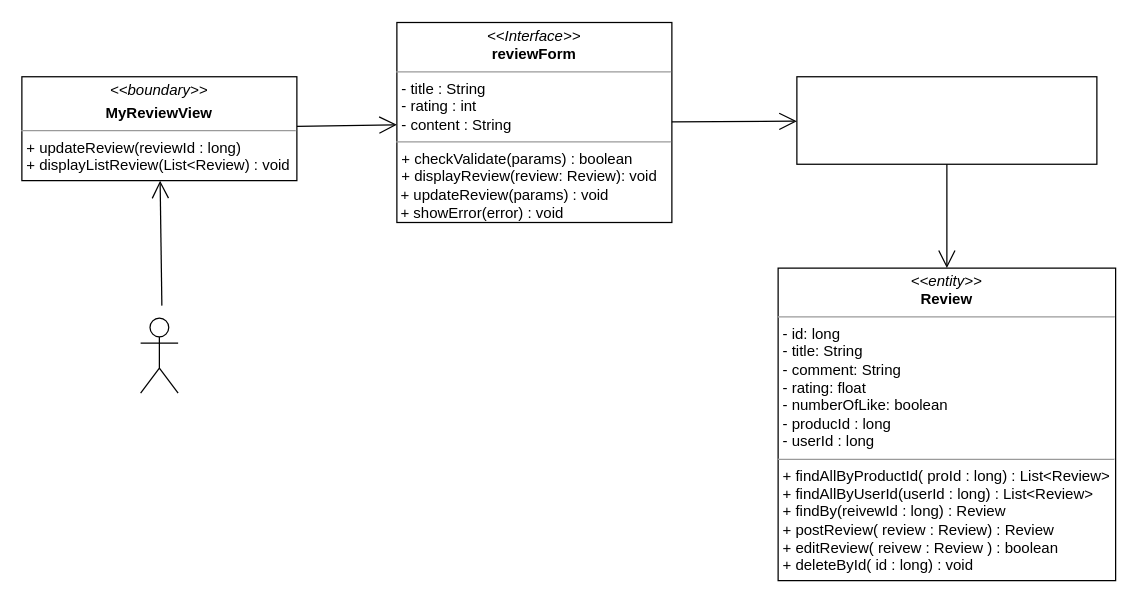
This 1138x603 diagram has some shape labels left out. The shapes that lost their labels are listed below. From the top down, each one's centre as x and y in pixels, then its label:
At pixel 946 120: "<<controller>> ReviewController + updateReview(reivew : Review) : boolean".
At pixel 158 355: "Actor".
